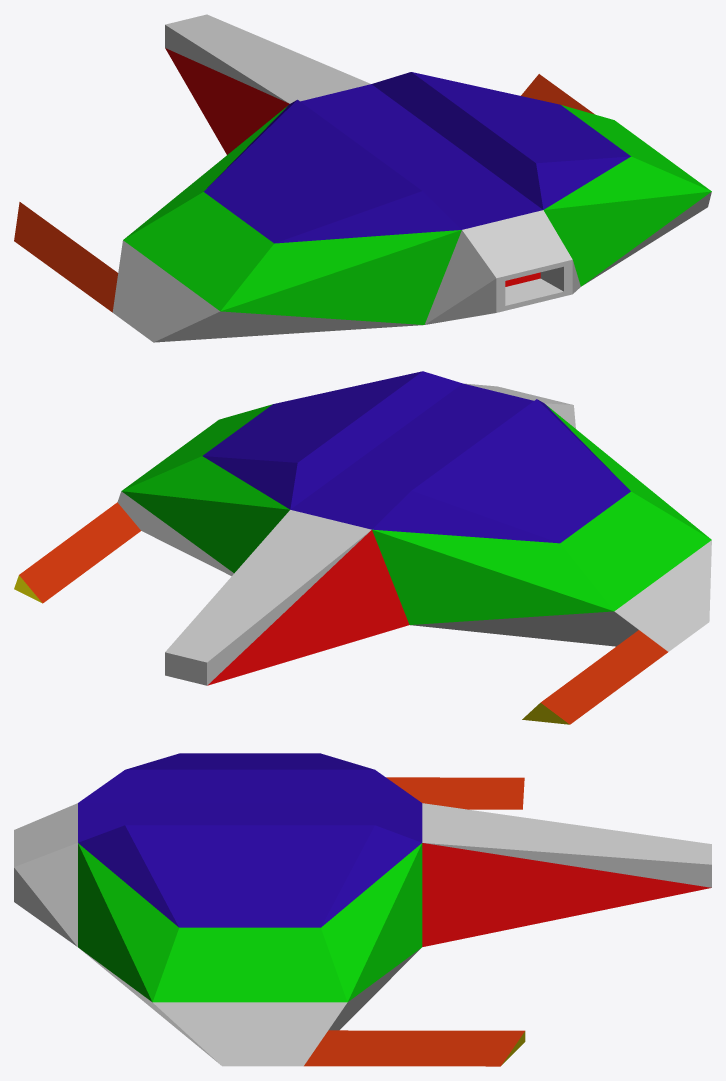
Rendered from shipv1.obj.
3 renders of one model, top to bottom at view 1: azimuth 30°, elevation 25°; view 2: azimuth 150°, elevation 25°; view 3: azimuth 270°, elevation 25°, orthographic.
Visible parts, largest first — view 1: Cube; view 2: Cube; view 3: Cube.
Part boxes in pixels (x1,y1,x2,y2): Cube: (14,14,711,342); Cube: (14,371,711,724); Cube: (14,753,711,1066).
Size of the model in its own units: 7.09 by 1.63 by 7.72.
